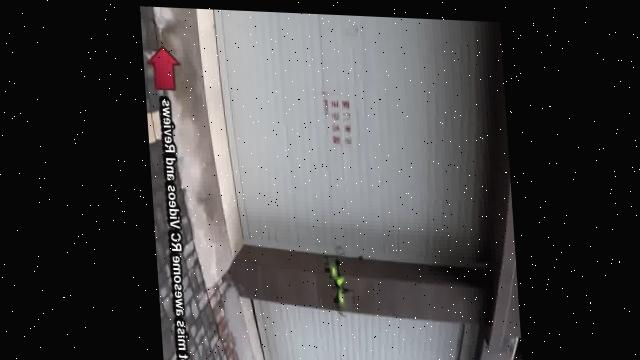drone: (311, 238, 358, 316)
